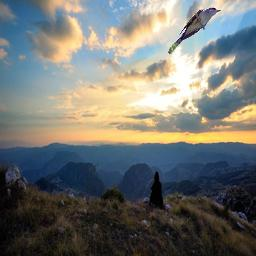Cuckoo: (168, 7, 222, 54)
